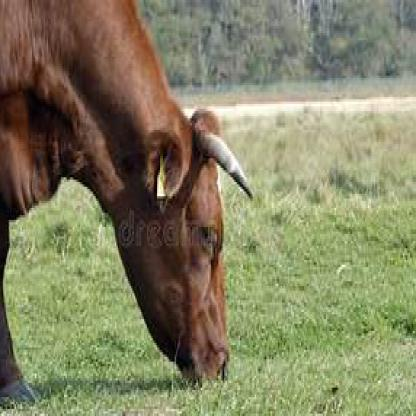cow: (0, 0, 257, 412)
